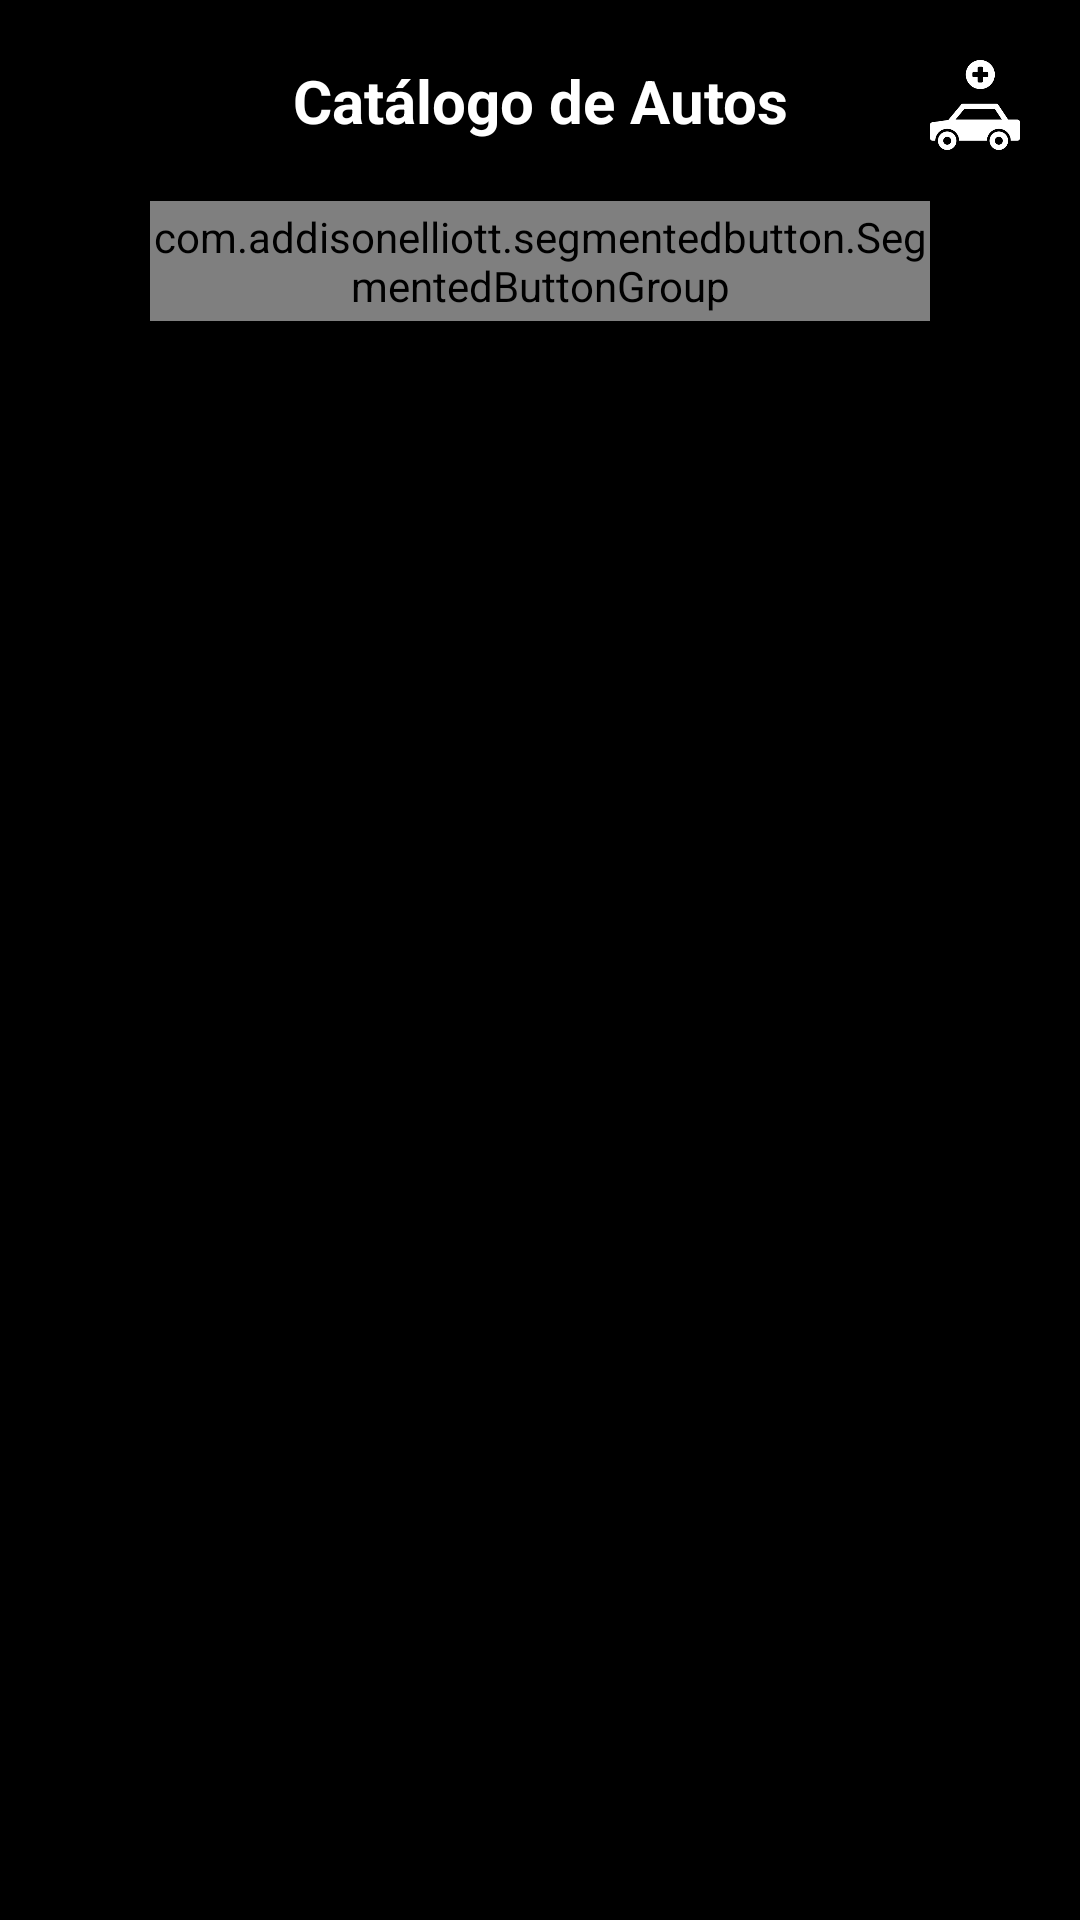

Point at icon controls on the screen. Image size 1080x1920, points as point (x, y).
add car: point (975, 105)
